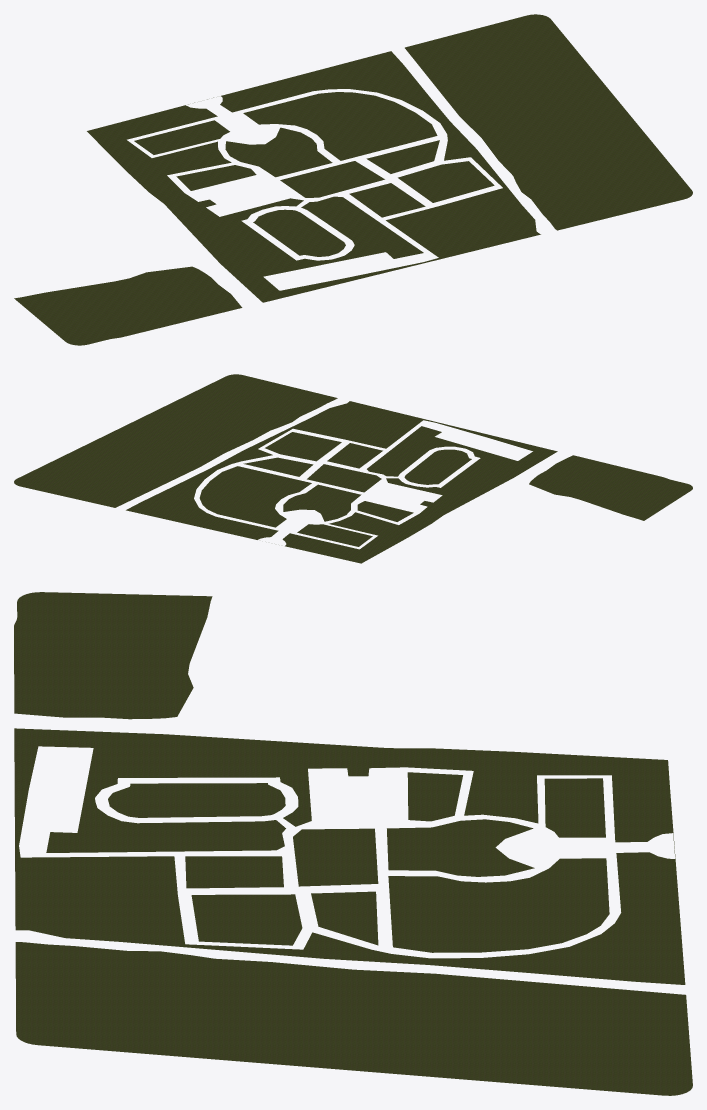
The model's file is GDZX_DM03.FBX.
3 views of the same model, one above another, from view 1: azimuth 30°, elevation 25°; view 2: azimuth 150°, elevation 25°; view 3: azimuth 270°, elevation 25° (orthographic). The views are drawn at different scales.
Visible parts, largest first — view 1: GDZX_DM03; view 2: GDZX_DM03; view 3: GDZX_DM03.
Part boxes in pixels (left/top/right/bottom): GDZX_DM03: left=14, top=14, right=692, bottom=345; GDZX_DM03: left=14, top=374, right=692, bottom=563; GDZX_DM03: left=14, top=592, right=692, bottom=1095.
Size of the model in its own units: 111788 by 20 by 63674.
